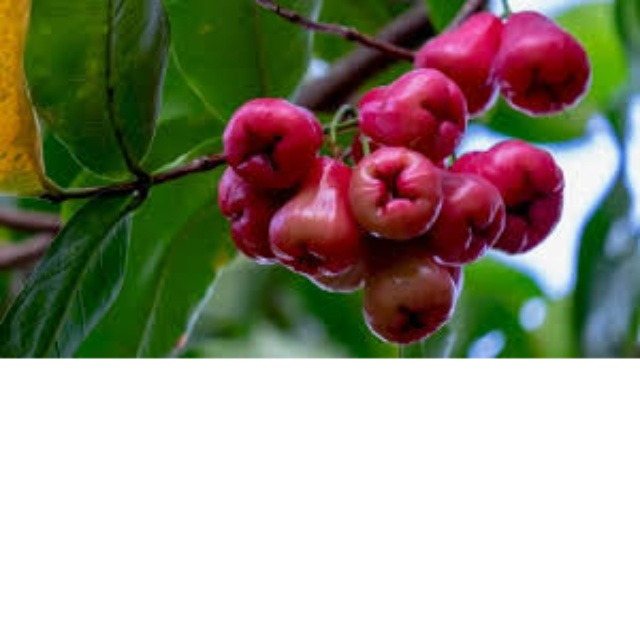xoai: (448, 140, 561, 259), (488, 11, 594, 117), (353, 74, 473, 165), (266, 151, 356, 270), (358, 246, 464, 343), (224, 90, 326, 183), (349, 145, 442, 239)
